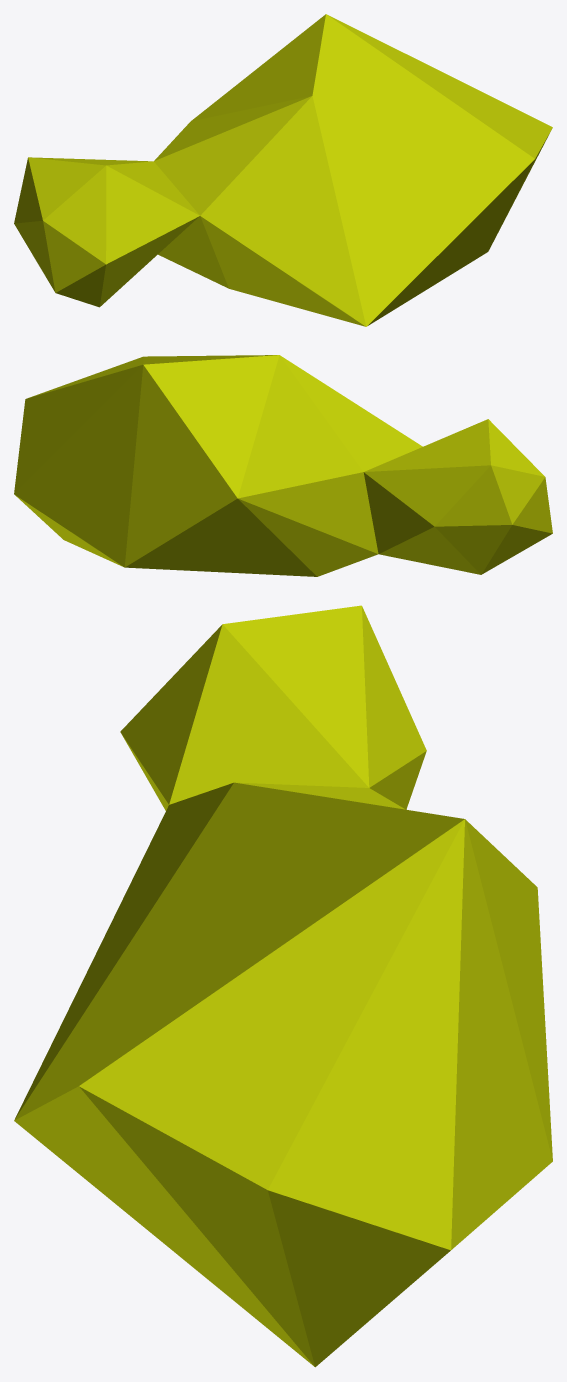
The model's file is firelfyLow2.obj.
3 views of the same model, one above another, from view 1: azimuth 30°, elevation 25°; view 2: azimuth 150°, elevation 25°; view 3: azimuth 270°, elevation 25° (orthographic). The views are drawn at different scales.
Parts seen in each view (by area): view 1: Icosphere; view 2: Icosphere; view 3: Icosphere.
Boxes of the visible parts, <box> form: Icosphere: <box>14,14,552,326</box>; Icosphere: <box>14,355,552,576</box>; Icosphere: <box>14,605,552,1367</box>.
Size of the model in its own units: 1.06 by 0.4623 by 0.5145.
